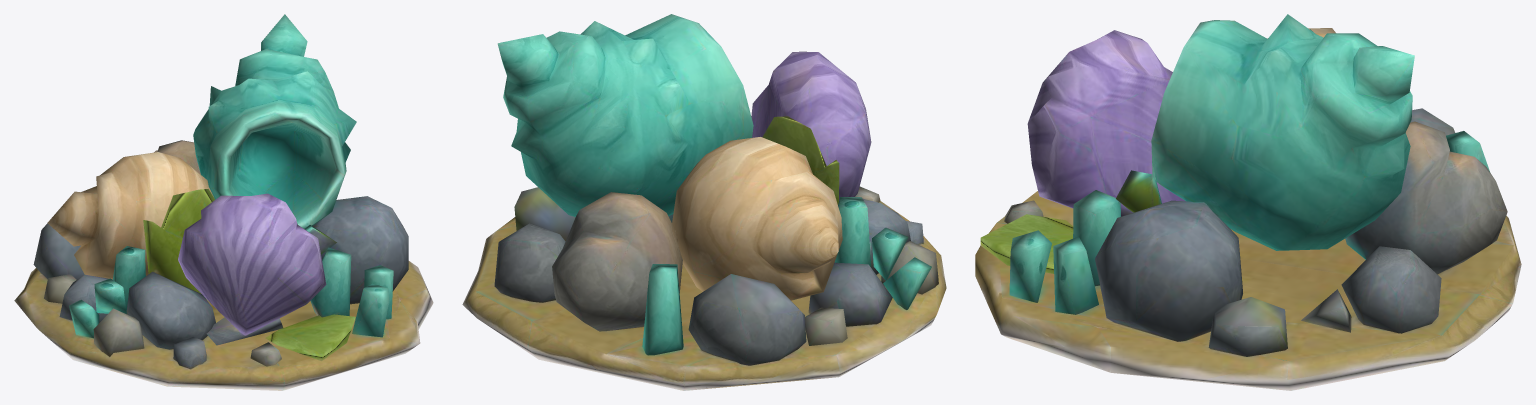
File: Pastel_Tidepool_Treas.glb
3 renders of one model, left to right at view 1: azimuth 30°, elevation 25°; view 2: azimuth 150°, elevation 25°; view 3: azimuth 270°, elevation 25°, orthographic. The views are drawn at different scales.
Parts seen in each view (by area): view 1: mesh_node; view 2: mesh_node; view 3: mesh_node.
Part boxes in pixels (<box>): mesh_node: <box>14,14,433,390</box>; mesh_node: <box>462,14,946,390</box>; mesh_node: <box>975,14,1521,390</box>.
Size of the model in its own units: 1 by 0.6113 by 1.
Materials: 1 (1 with a texture image).
